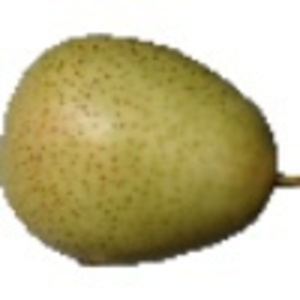pera: (1, 1, 300, 269)
